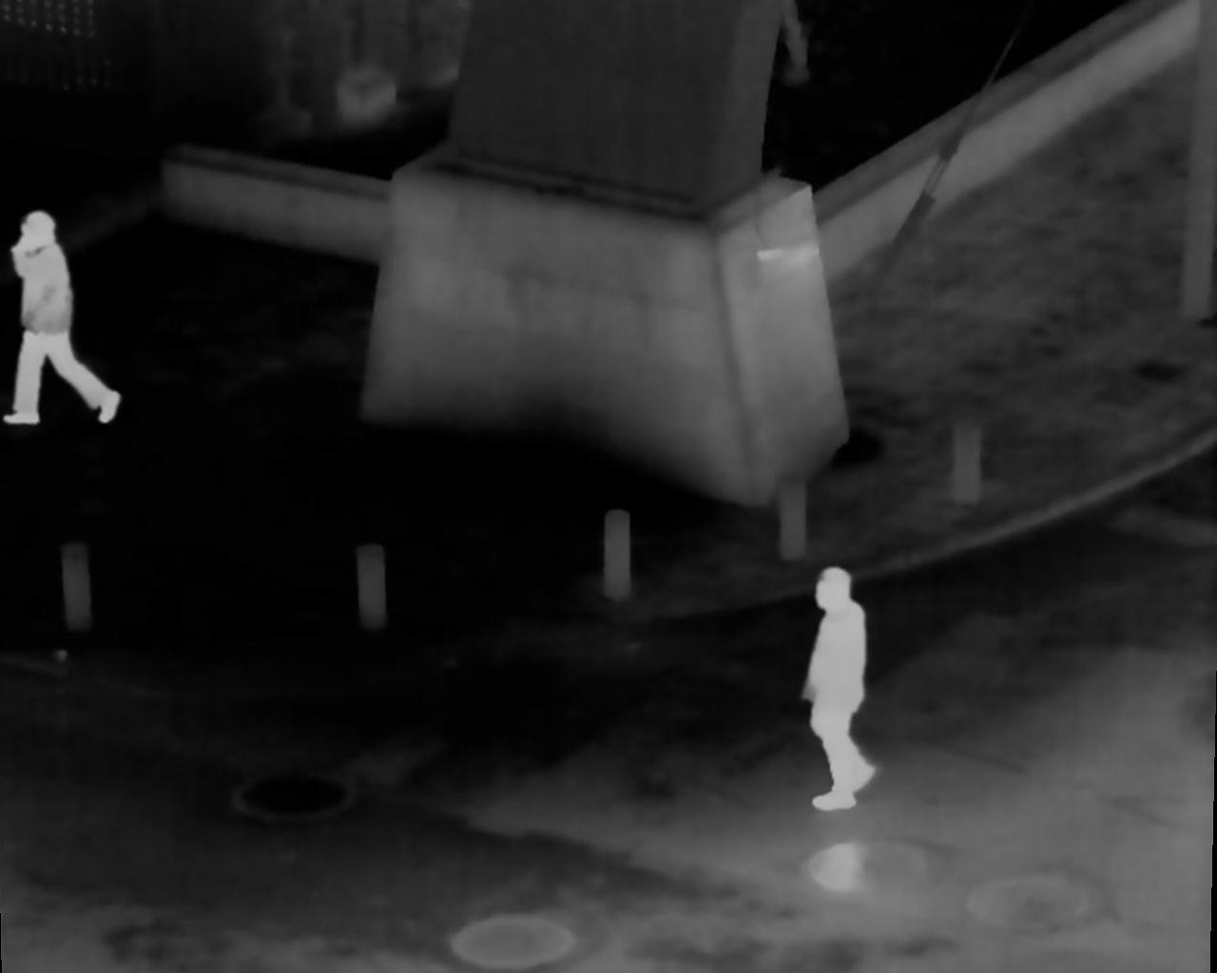person: (4, 214, 124, 427), (809, 552, 891, 804)
